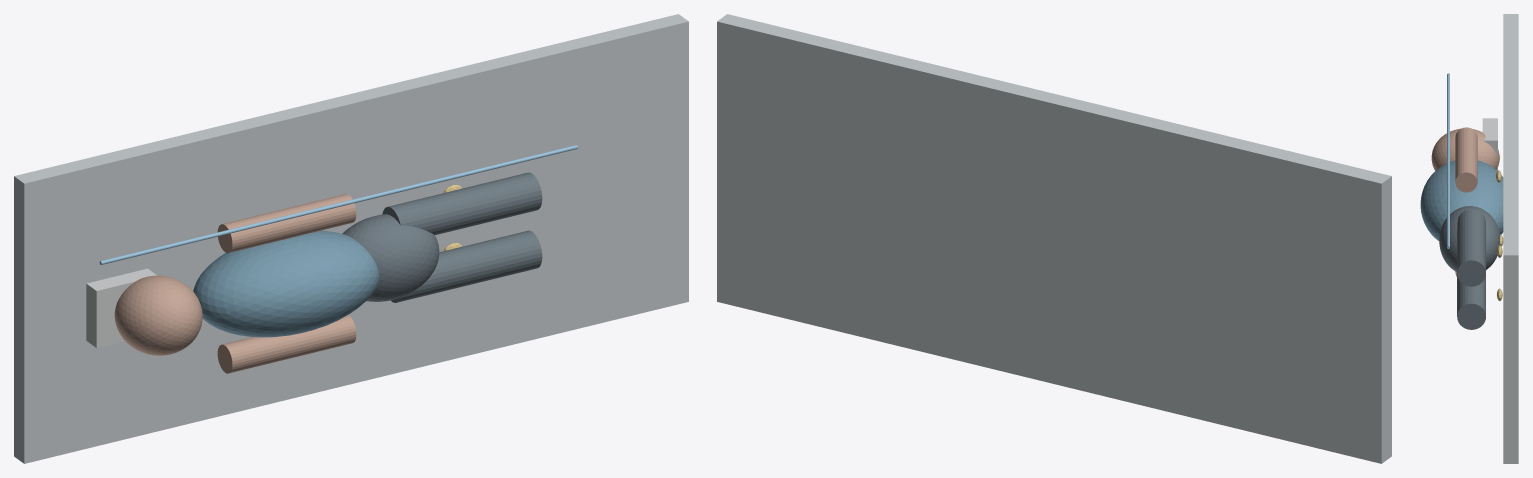
The model's file is dorsal-high.glb.
3 renders of one model, left to right at view 1: azimuth 30°, elevation 25°; view 2: azimuth 150°, elevation 25°; view 3: azimuth 270°, elevation 25°, orthographic. The views are drawn at different scales.
Parts seen in each view (by area): view 1: reference_surface, torso, head, right_leg, pelvis, left_leg, right_arm, left_arm, head_support_proxy, alignment_axis_proxy; view 2: reference_surface; view 3: reference_surface, torso, right_leg, pelvis, right_arm, left_leg, head, alignment_axis_proxy, head_support_proxy.
Boxes of the visible parts, <box> form: reference_surface: <box>14,14,688,463</box>; torso: <box>193,230,379,337</box>; head: <box>114,275,202,355</box>; right_leg: <box>382,172,542,235</box>; pelvis: <box>342,214,439,301</box>; left_leg: <box>391,230,542,302</box>; right_arm: <box>217,194,356,253</box>; left_arm: <box>217,315,356,373</box>; head_support_proxy: <box>86,268,156,347</box>; alignment_axis_proxy: <box>99,145,577,264</box>; reference_surface: <box>717,14,1391,463</box>; reference_surface: <box>1503,14,1518,463</box>; torso: <box>1420,160,1503,240</box>; right_leg: <box>1457,209,1485,286</box>; pelvis: <box>1439,206,1499,271</box>; right_arm: <box>1455,127,1477,192</box>; left_leg: <box>1457,274,1485,329</box>; head: <box>1431,128,1499,170</box>; alignment_axis_proxy: <box>1447,73,1449,248</box>; head_support_proxy: <box>1482,118,1497,170</box>.
Bounding box in the file's own units: 6.7 × 2.7 × 1.15.
